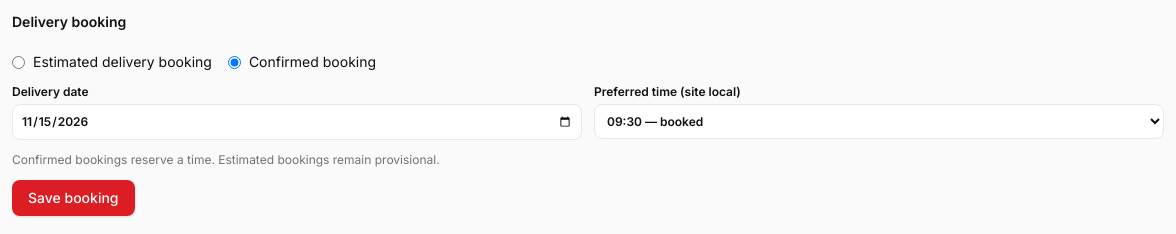
Test: a booking conflict refreshes availability and clears the contested time
Click the button "Save booking" at [73, 198], box [12,180,134,216]
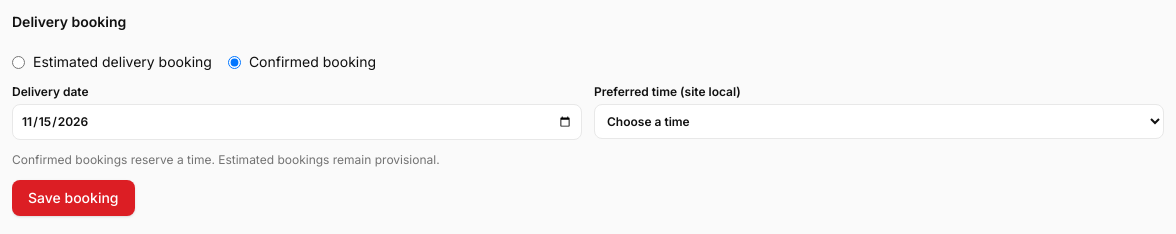
Check: the dropdown named "Preferred time" shows "Choose a time", box [594,104,1164,139]
